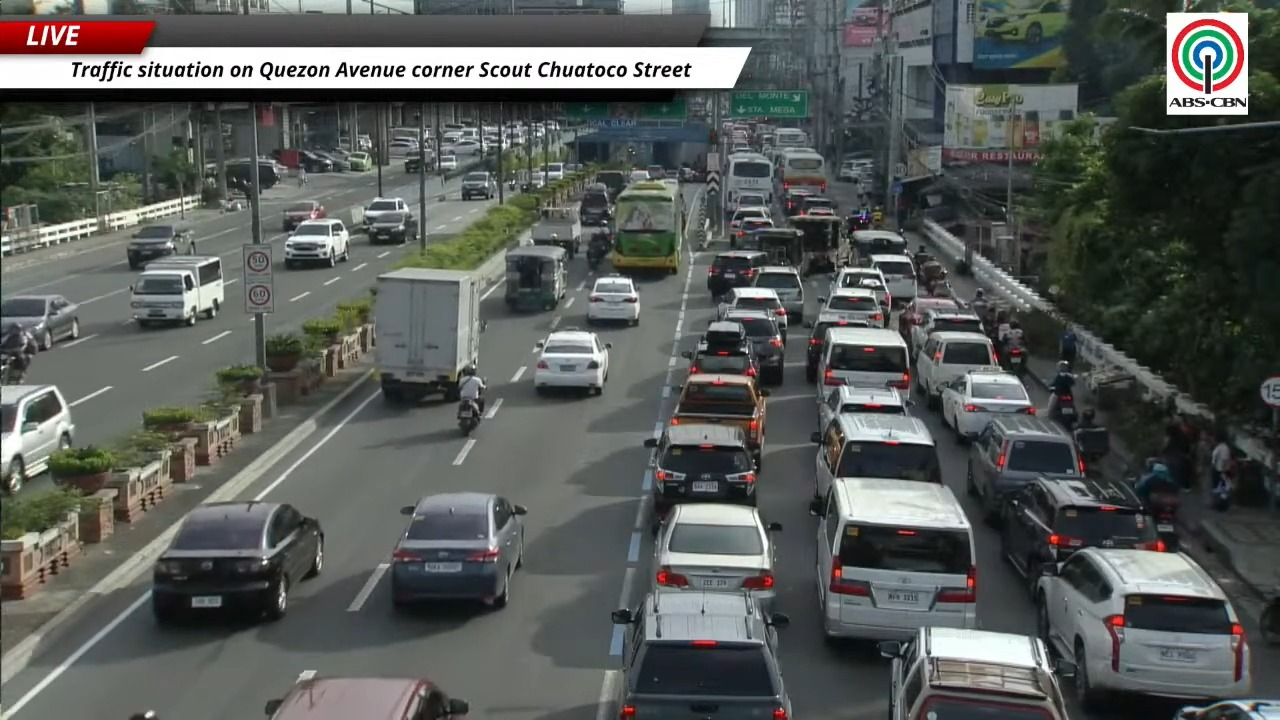bus: (611, 180, 684, 273), (723, 153, 774, 214), (779, 151, 827, 193)
car: (1036, 547, 1251, 711), (608, 589, 791, 719), (150, 501, 324, 624), (1001, 478, 1166, 597), (879, 627, 1073, 719), (389, 492, 526, 607), (654, 503, 781, 610), (966, 414, 1084, 523), (644, 422, 756, 531), (810, 414, 941, 498), (265, 670, 469, 719), (0, 385, 74, 494), (940, 368, 1036, 440), (915, 332, 998, 409), (533, 329, 611, 394), (721, 309, 784, 384), (0, 294, 79, 350), (904, 301, 985, 355), (805, 314, 869, 382), (681, 322, 758, 376), (818, 385, 910, 428), (982, 0, 1067, 45), (717, 286, 787, 340), (899, 297, 960, 354), (284, 218, 349, 268), (126, 223, 193, 269), (753, 265, 804, 324), (707, 250, 769, 297), (828, 266, 891, 311), (586, 274, 640, 325), (819, 287, 888, 326), (870, 254, 916, 304), (1174, 698, 1279, 719), (852, 230, 908, 260), (366, 212, 417, 244), (363, 197, 411, 228), (282, 200, 326, 232), (730, 218, 773, 248), (729, 206, 771, 232), (460, 171, 496, 200), (309, 150, 349, 171), (297, 150, 333, 172), (783, 188, 812, 215), (405, 148, 434, 173), (798, 195, 836, 214), (442, 138, 482, 155), (733, 192, 768, 209), (346, 151, 373, 171), (388, 139, 419, 156), (544, 162, 566, 181), (437, 152, 458, 170), (797, 207, 834, 216), (628, 169, 651, 183), (646, 165, 665, 179)
motorcycle: (1146, 491, 1180, 551), (1073, 426, 1109, 475), (1259, 588, 1279, 645), (1050, 395, 1077, 431), (456, 398, 481, 435), (0, 353, 25, 385), (1006, 347, 1025, 376), (586, 246, 604, 270)
truck: (373, 268, 483, 403), (670, 373, 768, 469), (531, 207, 582, 257)
